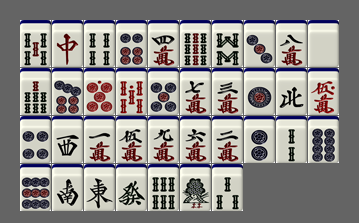0m: (308, 68, 339, 115)
0p: (84, 68, 115, 115)
0s: (116, 68, 147, 115)
1m: (84, 116, 115, 163)
1p: (244, 68, 275, 115)
1s: (180, 164, 211, 211)
1z: (84, 164, 115, 211)
2m: (212, 116, 243, 163)
2p: (244, 116, 275, 163)
2s: (276, 116, 307, 163)
2z: (52, 164, 83, 211)
3m: (212, 68, 243, 115)
3p: (244, 20, 275, 67)
3s: (212, 164, 243, 211)
3z: (52, 116, 83, 163)
4m: (148, 20, 179, 67)
4p: (20, 116, 51, 163)
4s: (84, 20, 115, 67)
4z: (276, 68, 307, 115)
5m: (116, 116, 147, 163)
5p: (148, 68, 179, 115)
5s: (20, 20, 51, 67)
5z: (308, 20, 339, 67)
6m: (180, 116, 211, 163)
6p: (116, 20, 147, 67)
6s: (148, 164, 179, 211)
6z: (116, 164, 147, 211)
7m: (180, 68, 211, 115)
7p: (52, 68, 83, 115)
7s: (20, 68, 51, 115)
7z: (52, 20, 83, 67)
8m: (276, 20, 307, 67)
8p: (308, 116, 339, 163)
8s: (212, 20, 243, 67)
9m: (148, 116, 179, 163)
9p: (20, 164, 51, 211)
9s: (180, 20, 211, 67)
